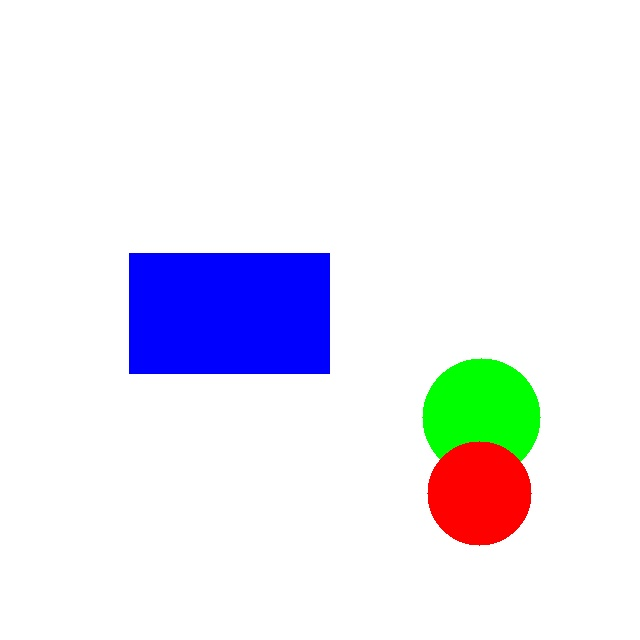cartao: (129, 253, 329, 373)
rosca_externa: (422, 358, 540, 476)
rosca_interna: (427, 441, 531, 545)
